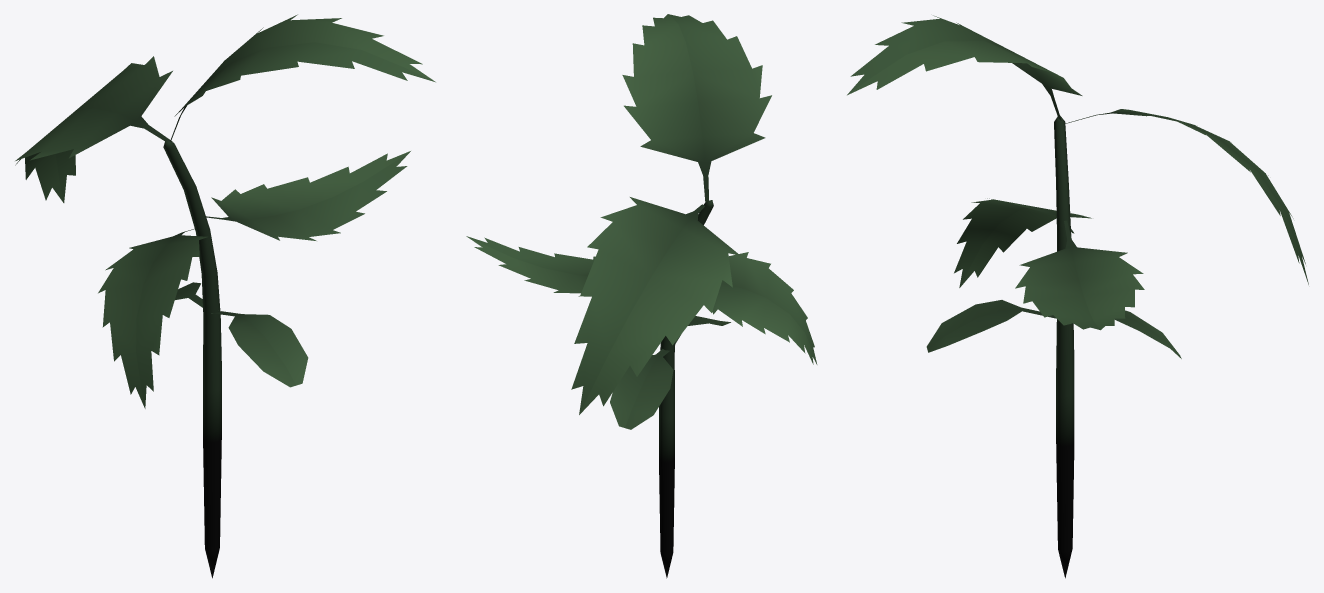
File: trees-plants-saplings-tree-sapling_v1.glb
3 views of the same model, side by side, from view 1: azimuth 30°, elevation 25°; view 2: azimuth 150°, elevation 25°; view 3: azimuth 270°, elevation 25° (orthographic). The views are drawn at different scales.
Visible parts, largest first — view 1: Tree Sapling_v1; view 2: Tree Sapling_v1; view 3: Tree Sapling_v1.
Boxes of the visible parts, x1,y1,x2,y2 form: Tree Sapling_v1: [15, 14, 435, 578]; Tree Sapling_v1: [466, 14, 817, 578]; Tree Sapling_v1: [847, 15, 1308, 578].
Bounding box in the file's own units: 0.6348 × 1 × 0.7533.
